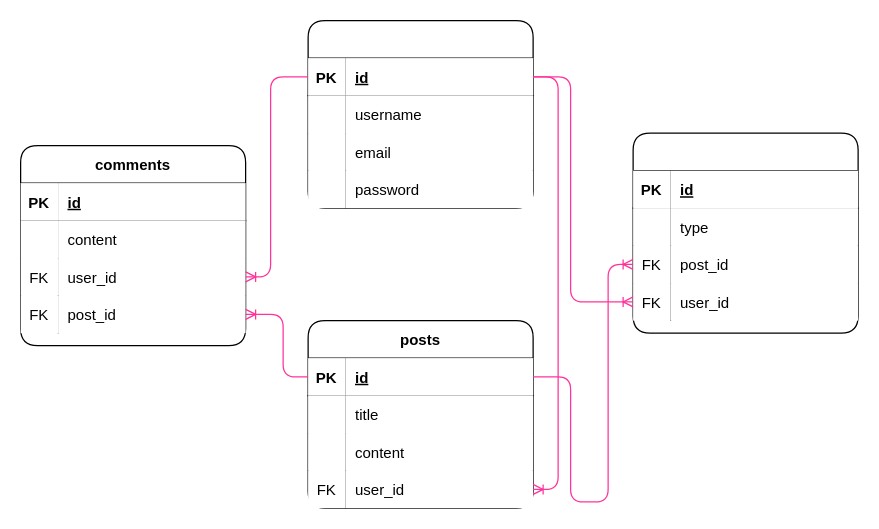
The diagram is 879 pixels wide and 529 high, and some of its shapes have lost their labels. Each missing label, with the box of its shape:
users: (307, 19, 533, 208)
votes: (632, 132, 858, 333)
